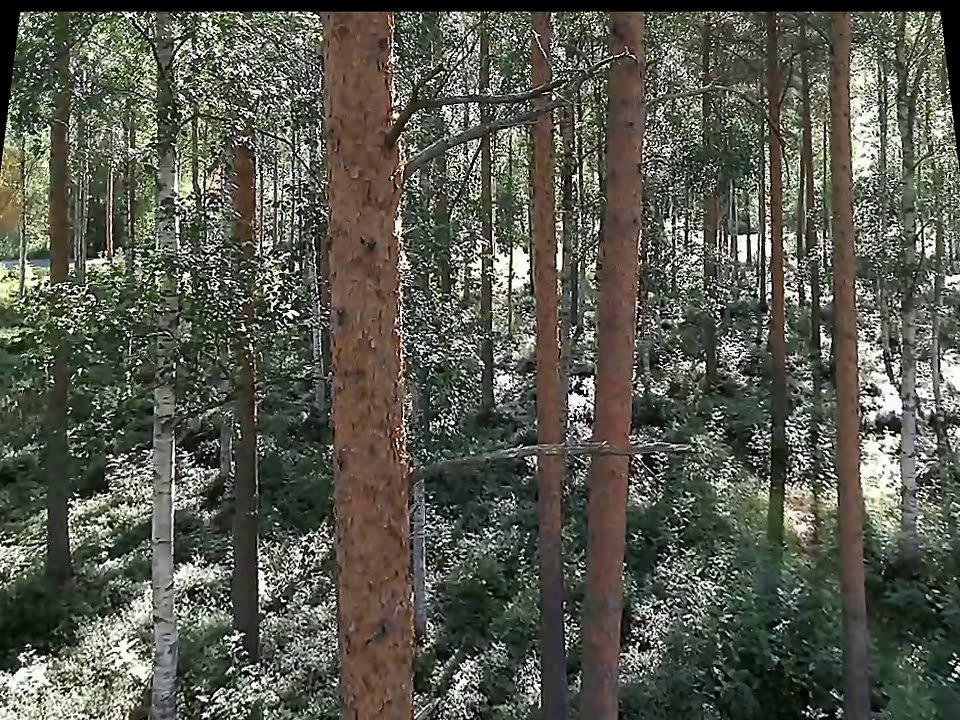branch: (411, 430, 694, 492)
trunk: (306, 19, 432, 710), (585, 12, 670, 703), (815, 24, 880, 712), (514, 13, 575, 707), (216, 64, 276, 660), (142, 52, 191, 711), (33, 82, 92, 579), (883, 22, 940, 532), (751, 22, 797, 382), (687, 27, 732, 388), (473, 18, 504, 419)
